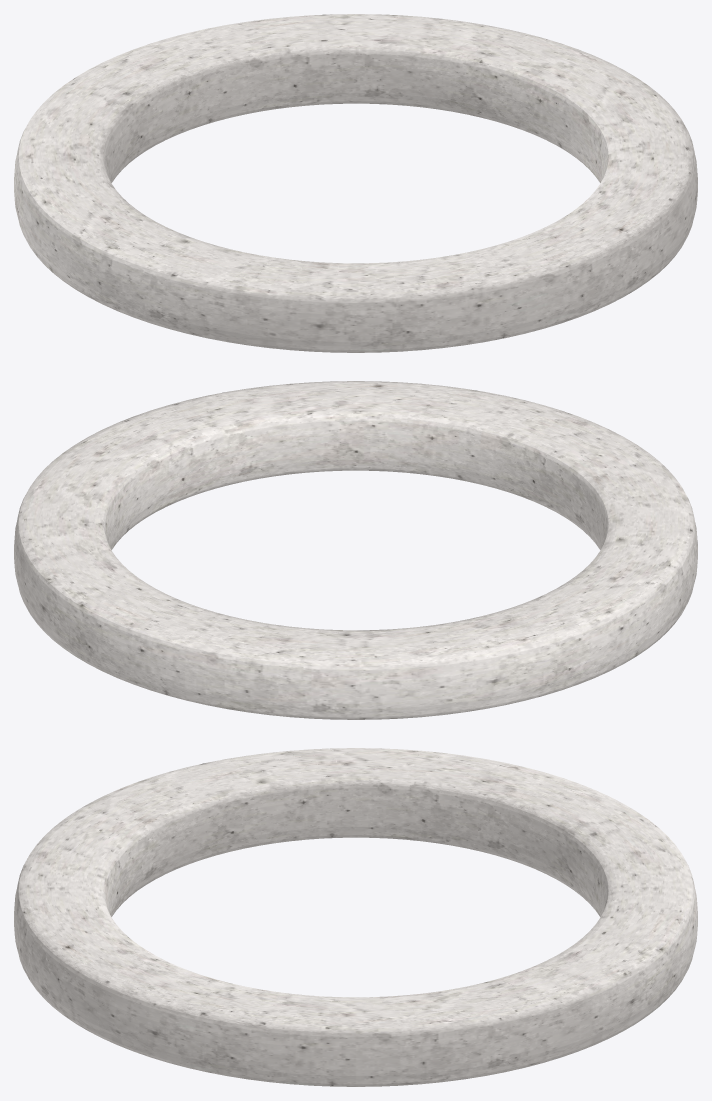
Rendered from yinsh-ring-white.glb.
The picture shows the model from 3 angles, top to bottom: view 1: azimuth 30°, elevation 25°; view 2: azimuth 150°, elevation 25°; view 3: azimuth 270°, elevation 25°; orthographic projection.
Parts seen in each view (by area): view 1: yinsh-ring-white; view 2: yinsh-ring-white; view 3: yinsh-ring-white.
Boxes of the visible parts, bbox=[...] form: yinsh-ring-white: bbox=[14, 14, 697, 352]; yinsh-ring-white: bbox=[14, 381, 697, 719]; yinsh-ring-white: bbox=[14, 748, 697, 1086].
Size of the model in its own units: 0.032 by 0.00305 by 0.032.
Materials: 1 (1 with a texture image).
